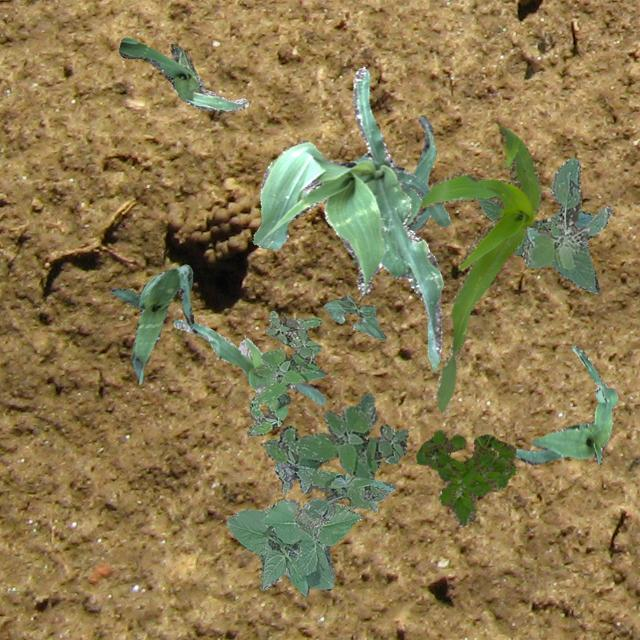crop: (250, 66, 450, 370), (420, 124, 540, 414), (172, 318, 324, 404), (224, 498, 360, 594), (514, 344, 616, 464), (474, 195, 598, 292), (109, 264, 192, 382), (118, 36, 248, 110), (400, 115, 436, 232), (324, 294, 384, 339)
weed: (263, 392, 407, 478), (520, 156, 612, 268), (246, 310, 324, 436), (414, 430, 514, 526), (274, 461, 396, 528)
